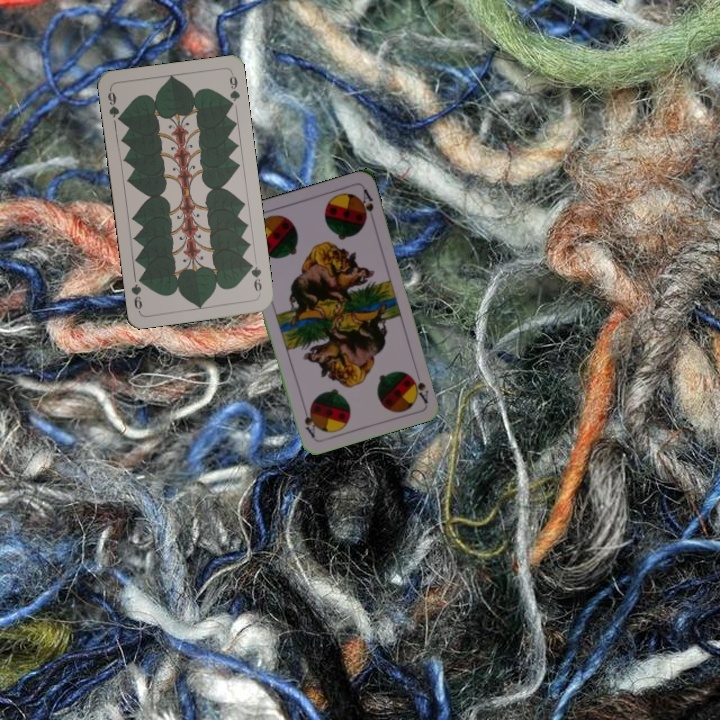G9: (104, 85, 125, 125), (245, 258, 264, 297)
SA: (410, 374, 431, 406)
